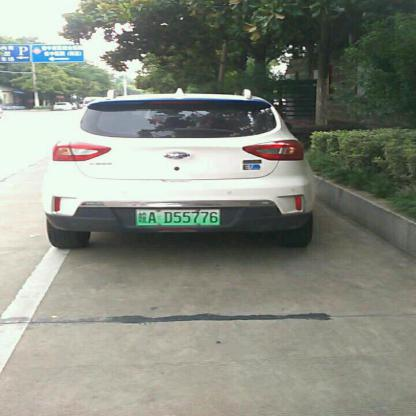lp: (134, 208, 220, 226)
